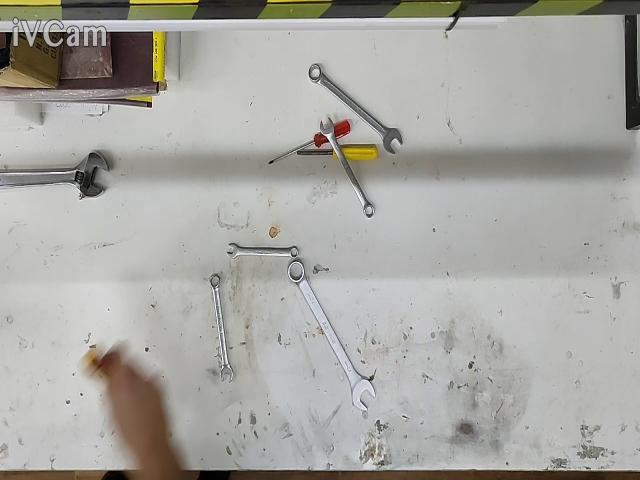Adjustable spanner: (0, 152, 109, 201)
Hand: (100, 352, 181, 480)
Screwdriver: (268, 120, 350, 165), (296, 144, 378, 160)
Wrench: (288, 261, 375, 411), (308, 65, 402, 155), (320, 117, 374, 218), (210, 273, 234, 382), (227, 243, 298, 259)
